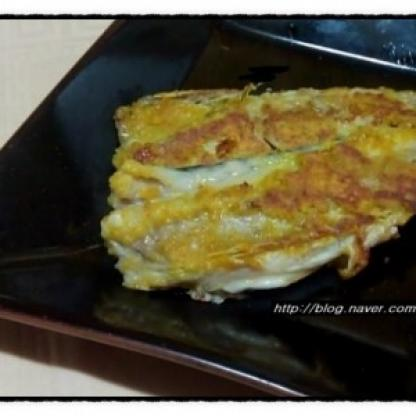Peixe: (55, 70, 416, 289)
